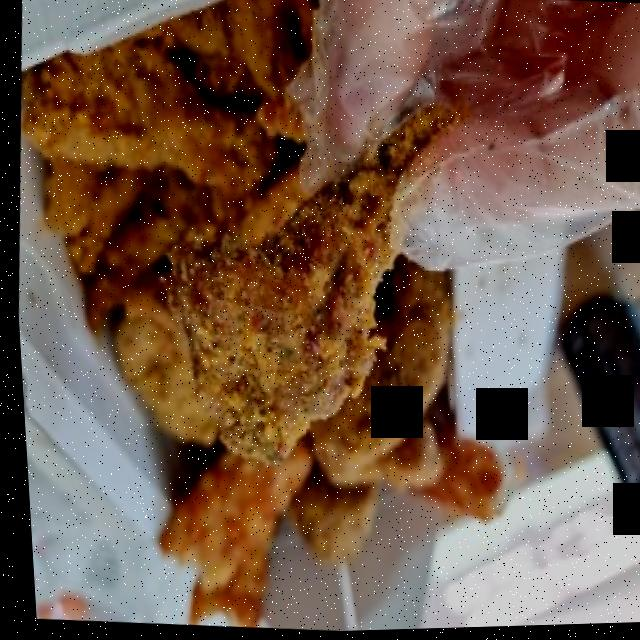Frango: (0, 0, 544, 606)
